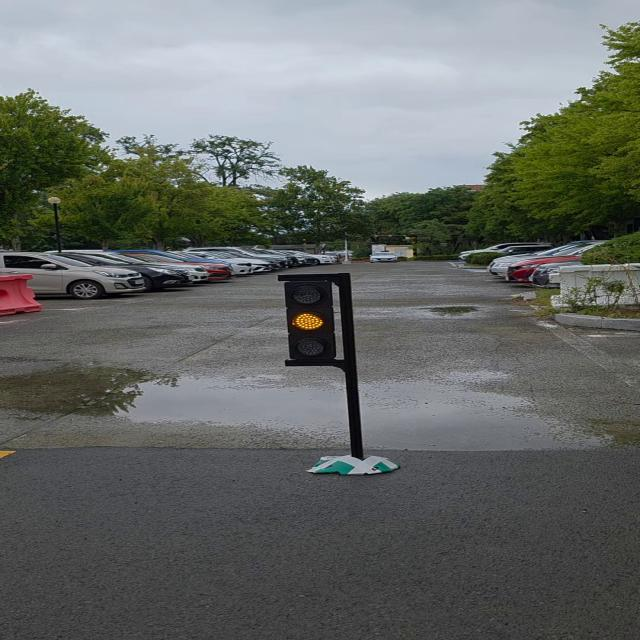yellow: (284, 274, 341, 364)
